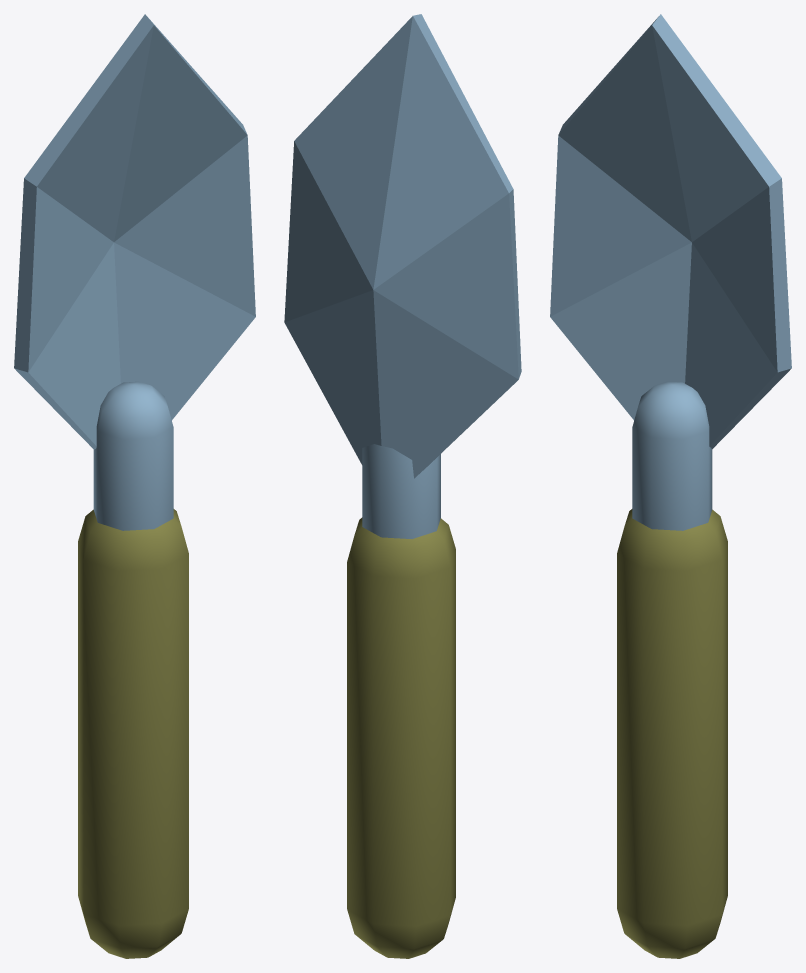
File: trowel.glb
3 views of the same model, side by side, from view 1: azimuth 30°, elevation 25°; view 2: azimuth 150°, elevation 25°; view 3: azimuth 330°, elevation 25° (orthographic).
Parts seen in each view (by area): view 1: Concave_pointed_blade, Wood_handle, Ferrule; view 2: Concave_pointed_blade, Wood_handle, Ferrule; view 3: Concave_pointed_blade, Wood_handle, Ferrule.
Part boxes in pixels (x1,y1,x2,y2): Concave_pointed_blade: (14, 14, 255, 449); Wood_handle: (78, 509, 188, 958); Ferrule: (93, 381, 173, 530); Concave_pointed_blade: (284, 14, 521, 478); Wood_handle: (347, 517, 455, 958); Ferrule: (362, 444, 440, 538); Concave_pointed_blade: (550, 14, 791, 449); Wood_handle: (617, 509, 727, 958); Ferrule: (632, 381, 712, 530).
Size of the model in its own units: 0.12 by 0.455 by 0.05.
